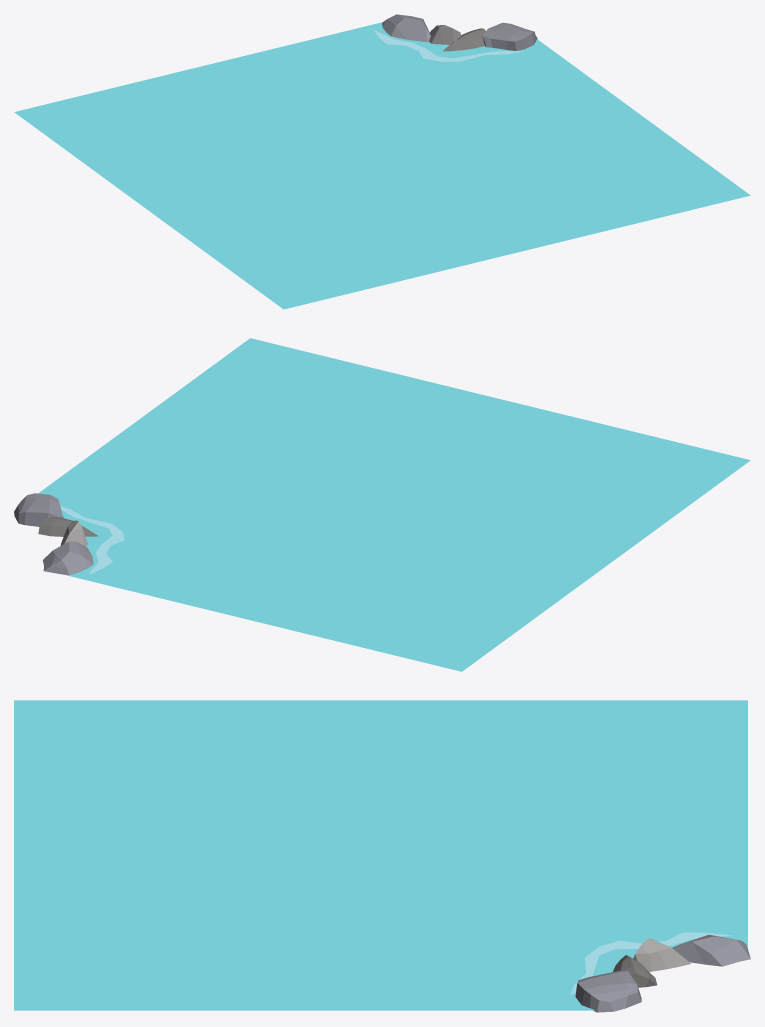
The model's file is WaterPatchCornerInside_01.glb.
3 views of the same model, one above another, from view 1: azimuth 30°, elevation 25°; view 2: azimuth 150°, elevation 25°; view 3: azimuth 270°, elevation 25° (orthographic). The views are drawn at different scales.
Parts seen in each view (by area): view 1: WaterPatchCornerInside_01; view 2: WaterPatchCornerInside_01; view 3: WaterPatchCornerInside_01.
Boxes of the visible parts, left/top/right/bottom form: WaterPatchCornerInside_01: left=14, top=14, right=750, bottom=309; WaterPatchCornerInside_01: left=14, top=338, right=750, bottom=671; WaterPatchCornerInside_01: left=14, top=700, right=750, bottom=1012.
Size of what is drawn, in the model's own units: 8.02 by 0.3023 by 8.03.
Materials: 1 (1 with a texture image).
